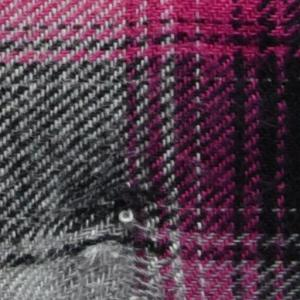Damage: (51, 156, 193, 285)
